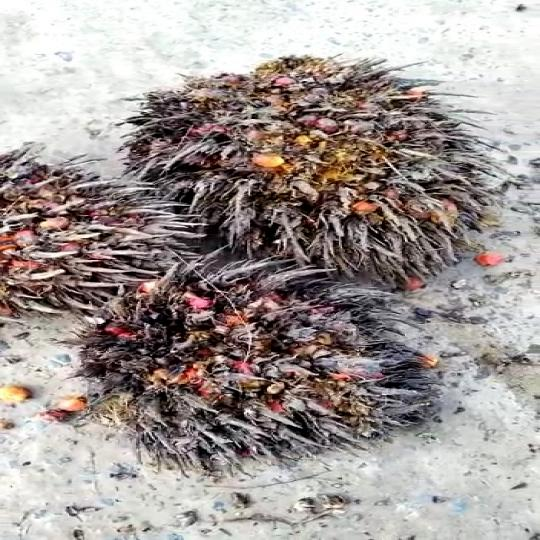terlalu masak: (103, 60, 540, 283), (73, 258, 445, 459)
